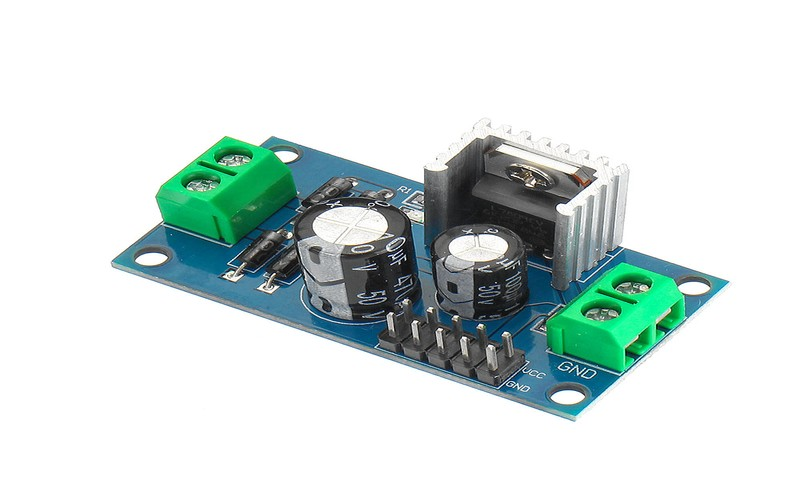Regulator: (83, 90, 730, 441)
